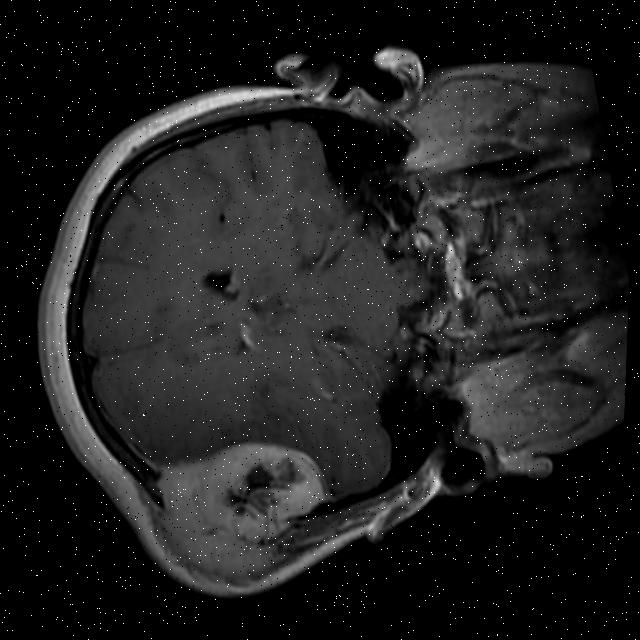Meningioma: (128, 421, 349, 610)
Pituitary: (434, 234, 475, 307)
